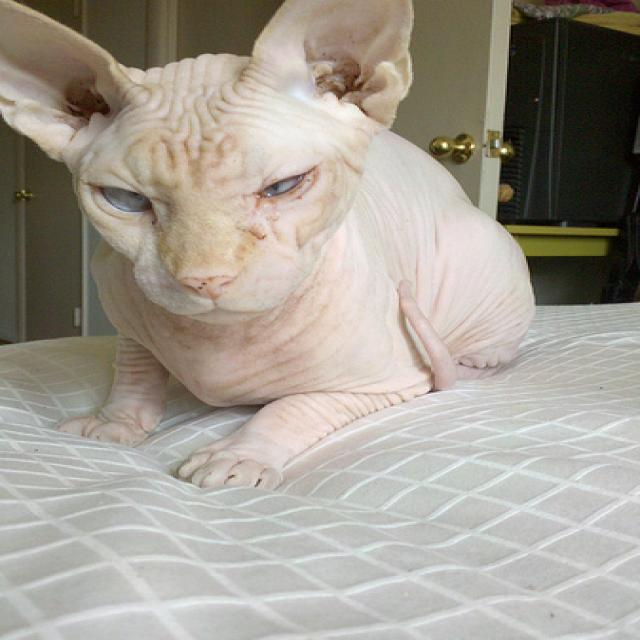Sphynx: (0, 0, 539, 492)
